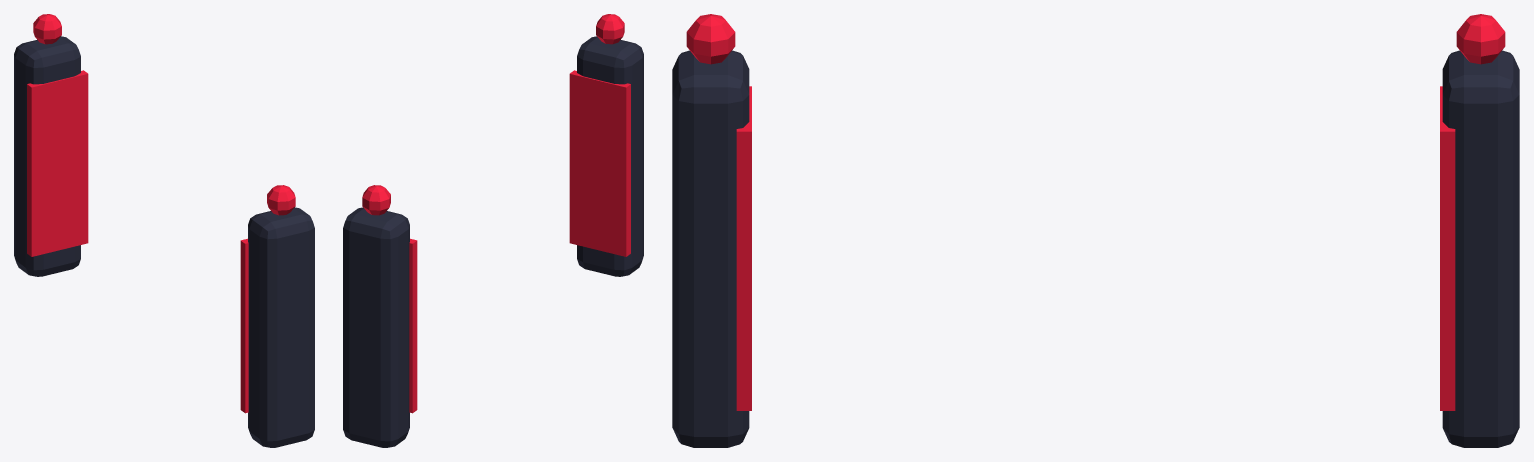
File: portique.glb
3 renders of one model, left to right at view 1: azimuth 30°, elevation 25°; view 2: azimuth 150°, elevation 25°; view 3: azimuth 270°, elevation 25°, orthographic. The views are drawn at different scales.
Visible parts, largest first — view 1: p_rbox.175, p_box.922, p_rbox.176, p_box.921, p_sph.324, p_sph.325; view 2: p_rbox.176, p_box.921, p_rbox.175, p_box.922, p_sph.325, p_sph.324; view 3: p_rbox.175, p_rbox.176, p_box.921, p_box.922, p_sph.324, p_sph.325.
Boxes of the visible parts, <box> form: p_rbox.175: <box>248,207,314,447</box>; p_box.922: <box>27,70,88,256</box>; p_rbox.176: <box>14,36,80,276</box>; p_box.921: <box>240,238,248,413</box>; p_sph.324: <box>267,185,295,215</box>; p_sph.325: <box>33,14,61,44</box>; p_rbox.176: <box>343,207,409,447</box>; p_box.921: <box>569,70,630,256</box>; p_rbox.175: <box>577,36,643,276</box>; p_box.922: <box>409,238,417,413</box>; p_sph.325: <box>362,185,390,215</box>; p_sph.324: <box>596,14,624,44</box>; p_rbox.175: <box>672,50,749,447</box>; p_rbox.176: <box>1442,50,1519,447</box>; p_box.921: <box>736,86,751,410</box>; p_box.922: <box>1440,86,1455,410</box>; p_sph.324: <box>686,14,735,64</box>; p_sph.325: <box>1456,14,1505,64</box>.
Size of the model in its own units: 0.42 by 1.8 by 3.3.
